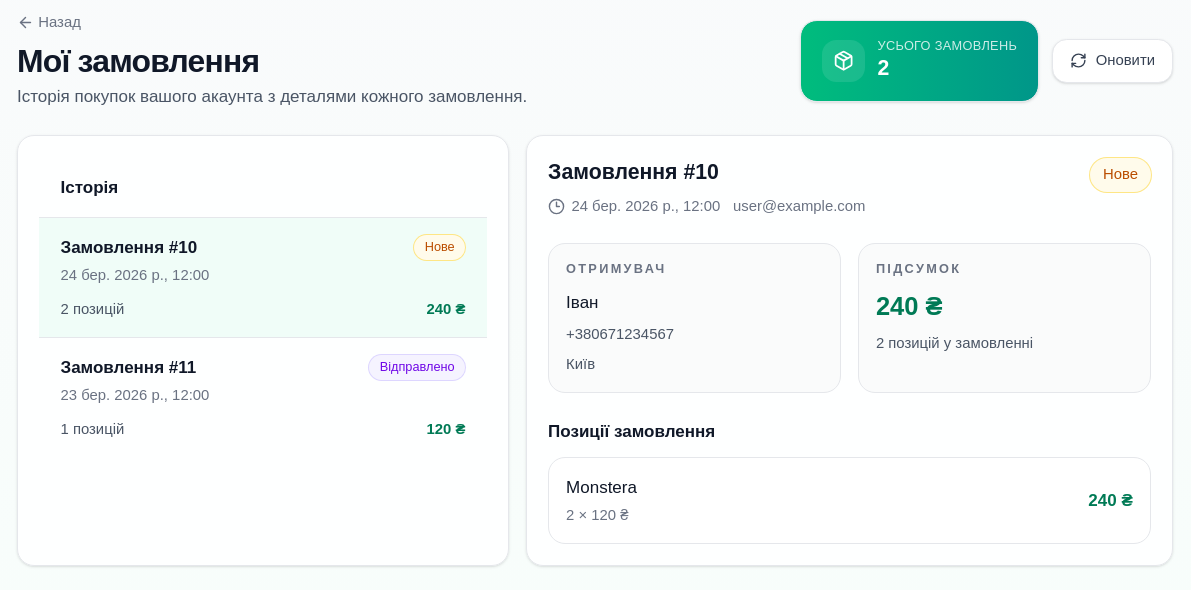
Dashboard orders page › очищає stale detail, якщо нове замовлення не вдалося завантажити
Expected: the text "Monstera" is shown, [566, 475, 637, 500]
Click the button "Замовлення #11" at [119, 368], box [39, 338, 487, 457]
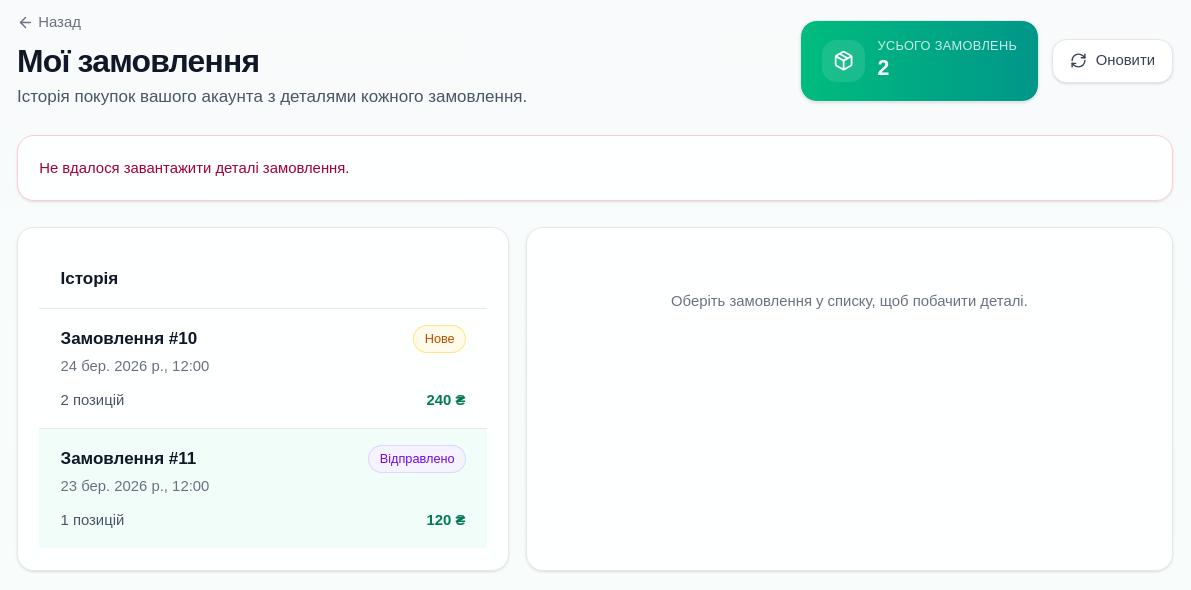
Expected: the text "Не вдалося завантажити деталі замовлення." is shown, [39, 160, 350, 176]
Expected: the text "Monstera" is gone
